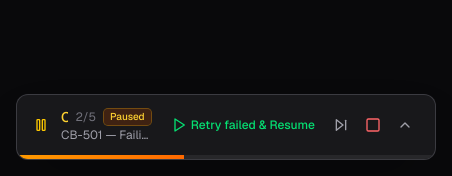
Test: AutoPilotFloatingBar › retry button for failed tasks › shows a retry icon button for a failed task in the expanded queue
Open the expanded task list by clicking the expand button.
Step 1. Click the button titled "Expand queue" → (405, 125), box [391,111,419,139]
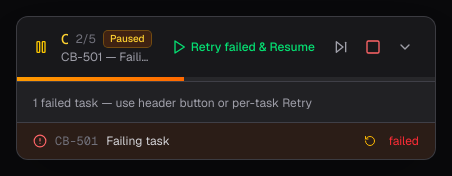
Result: the button named "Retry CB-501" is shown at [360,131,380,151]
